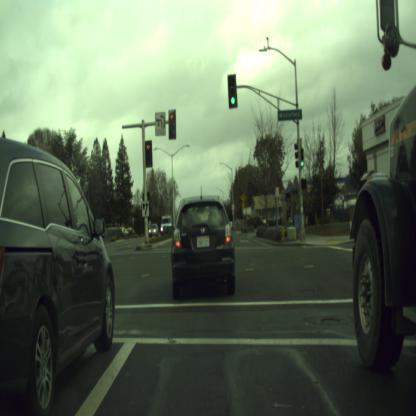Green: (228, 74, 236, 107), (300, 148, 304, 166)
RedLeft: (168, 110, 175, 138), (145, 141, 152, 166)
